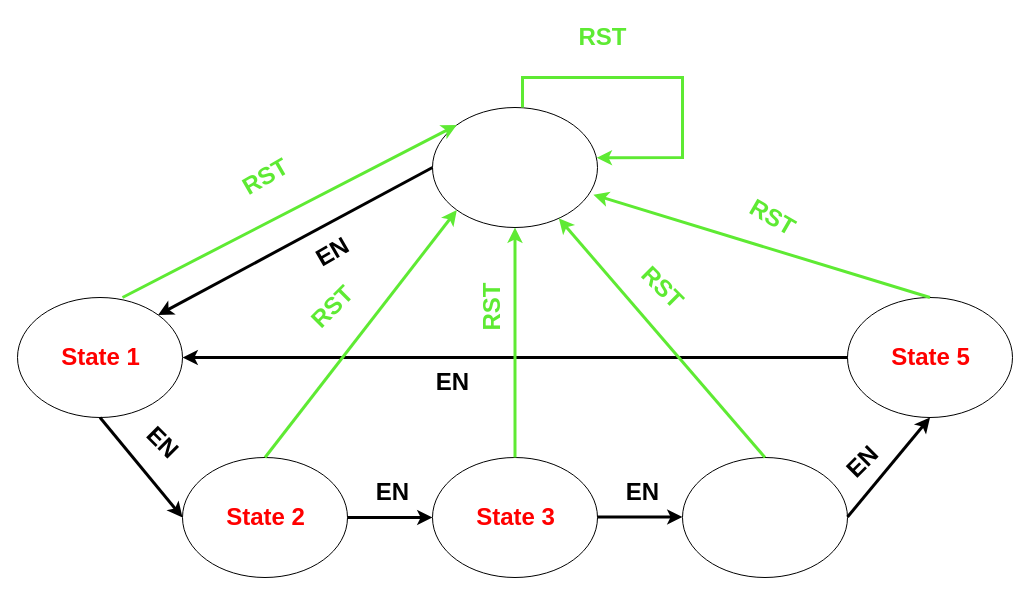
This 1030x595 diagram has some shape labels left out. Each missing label, with the centre of its shape:
"State 0" belongs at [515,167].
"State 4" belongs at [765,517].
